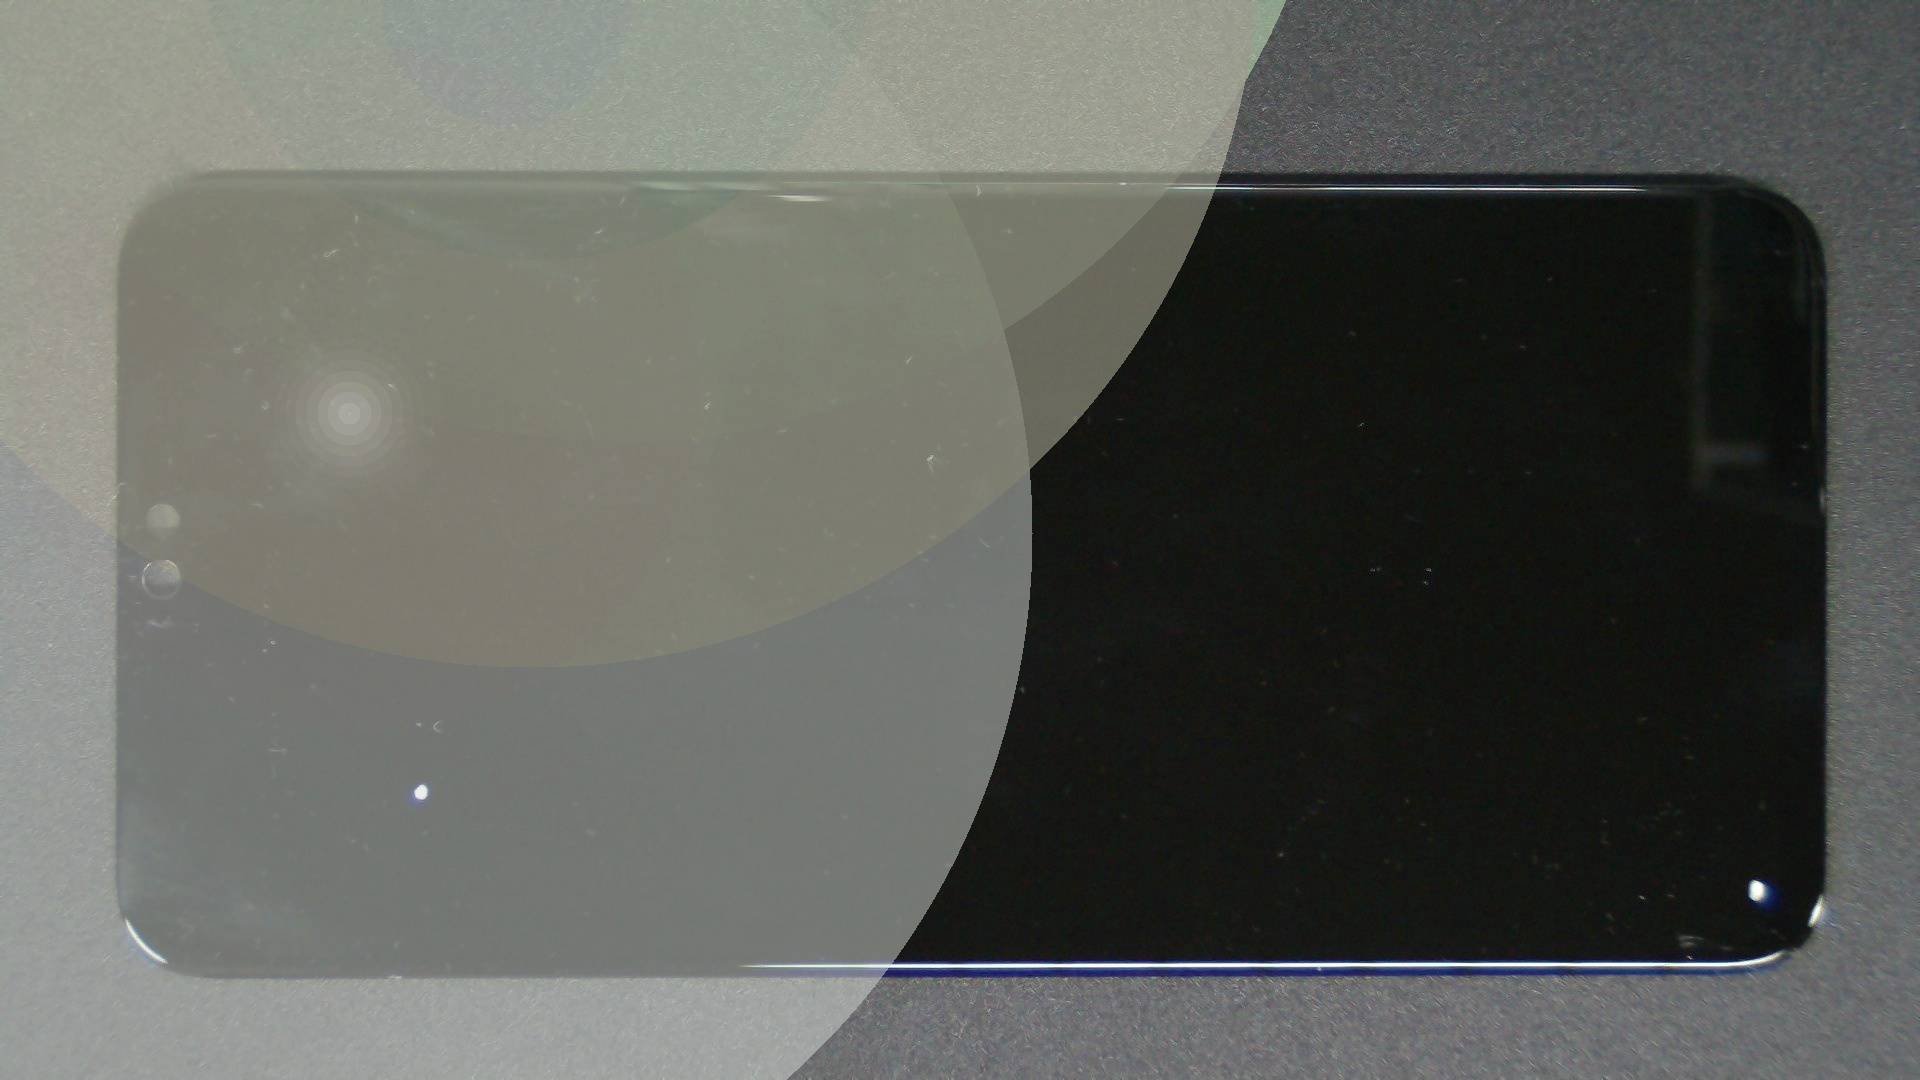oil: (877, 438, 1920, 1080), (214, 388, 626, 1080)
